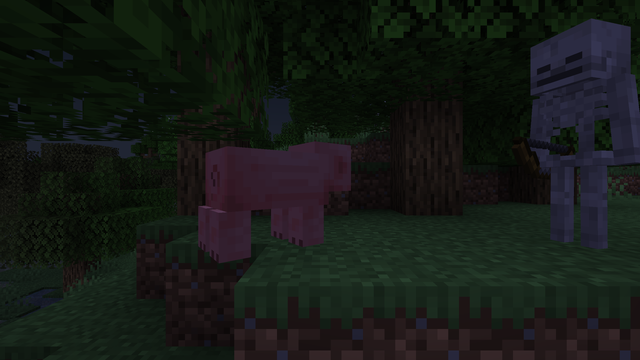cochons: (200, 144, 314, 256)
squelettes: (521, 19, 628, 251)
